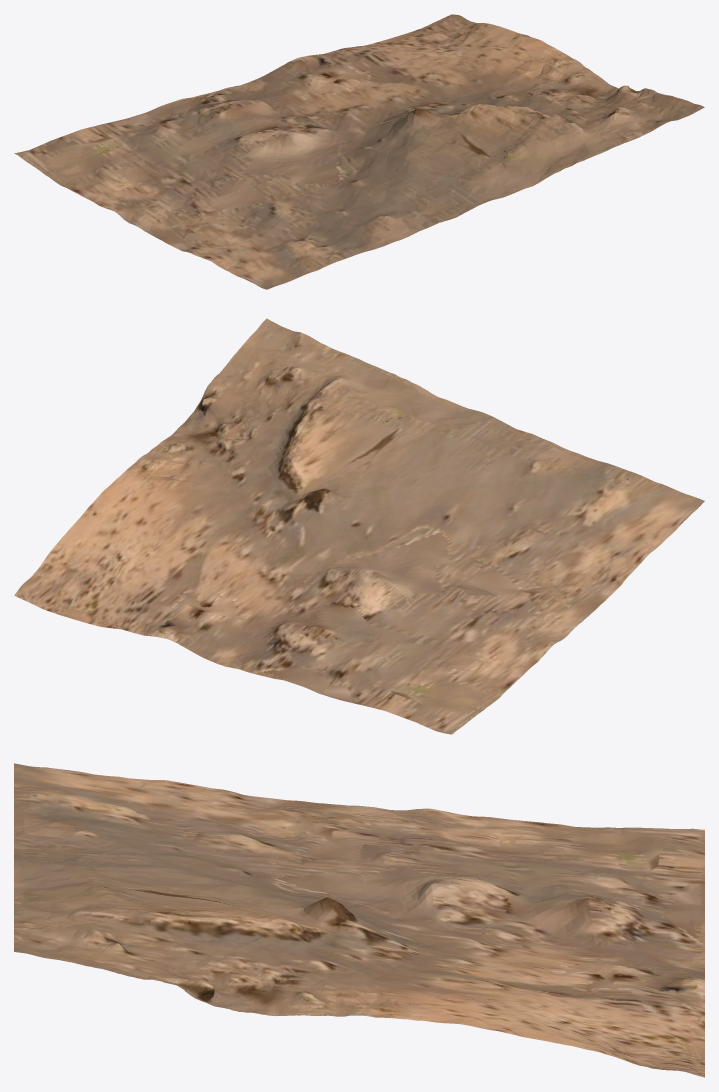
The picture shows the model from 3 angles, top to bottom: view 1: azimuth 30°, elevation 25°; view 2: azimuth 150°, elevation 25°; view 3: azimuth 270°, elevation 25°; orthographic projection. The views are drawn at different scales.
Bounding box in the file's own units: 2.09 × 0.5687 × 2.09.
2 materials, 2 textured.
